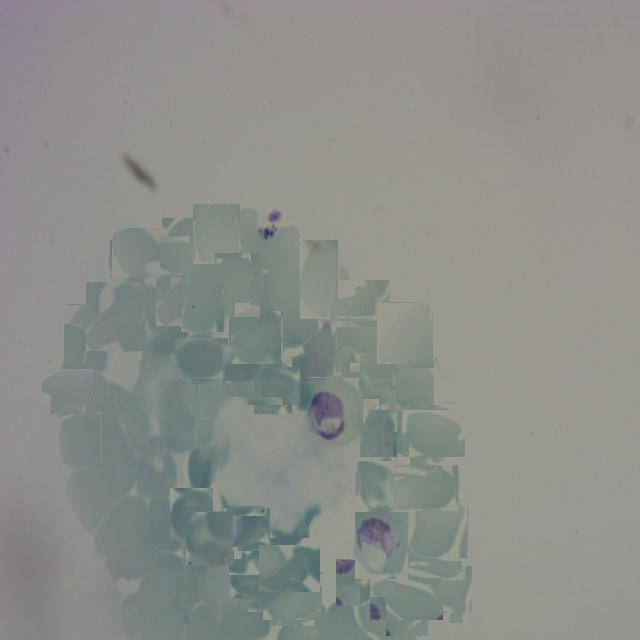leukocyte: (86, 282, 146, 351), (408, 501, 468, 560), (377, 302, 434, 364), (409, 560, 467, 618), (378, 570, 436, 628), (121, 276, 182, 331), (406, 406, 462, 462), (153, 227, 209, 283), (328, 273, 383, 329), (394, 464, 459, 511), (64, 304, 110, 370), (300, 240, 338, 319), (215, 252, 261, 317), (262, 541, 316, 596), (193, 204, 240, 267), (266, 570, 320, 624), (182, 264, 224, 332), (235, 553, 288, 605), (356, 456, 402, 515), (338, 324, 390, 376), (230, 311, 282, 363), (135, 435, 177, 497), (186, 511, 234, 565), (110, 228, 160, 278), (160, 383, 197, 450), (389, 360, 438, 409), (170, 488, 213, 543), (178, 334, 226, 382), (360, 407, 398, 466), (250, 362, 296, 410), (60, 412, 102, 464), (360, 352, 397, 410), (336, 559, 380, 606), (300, 324, 335, 383), (223, 345, 262, 397), (46, 365, 91, 409), (226, 506, 268, 550)
schizont: (355, 511, 409, 579), (308, 377, 364, 442)
